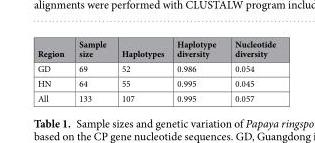table: (36, 37, 275, 103)
table column: (113, 37, 169, 103), (169, 37, 224, 103), (224, 37, 275, 103), (70, 37, 113, 103), (36, 37, 70, 103)
table column header: (36, 37, 275, 60)
table row: (36, 37, 275, 60), (36, 60, 275, 75), (36, 75, 275, 90), (36, 90, 275, 103)
